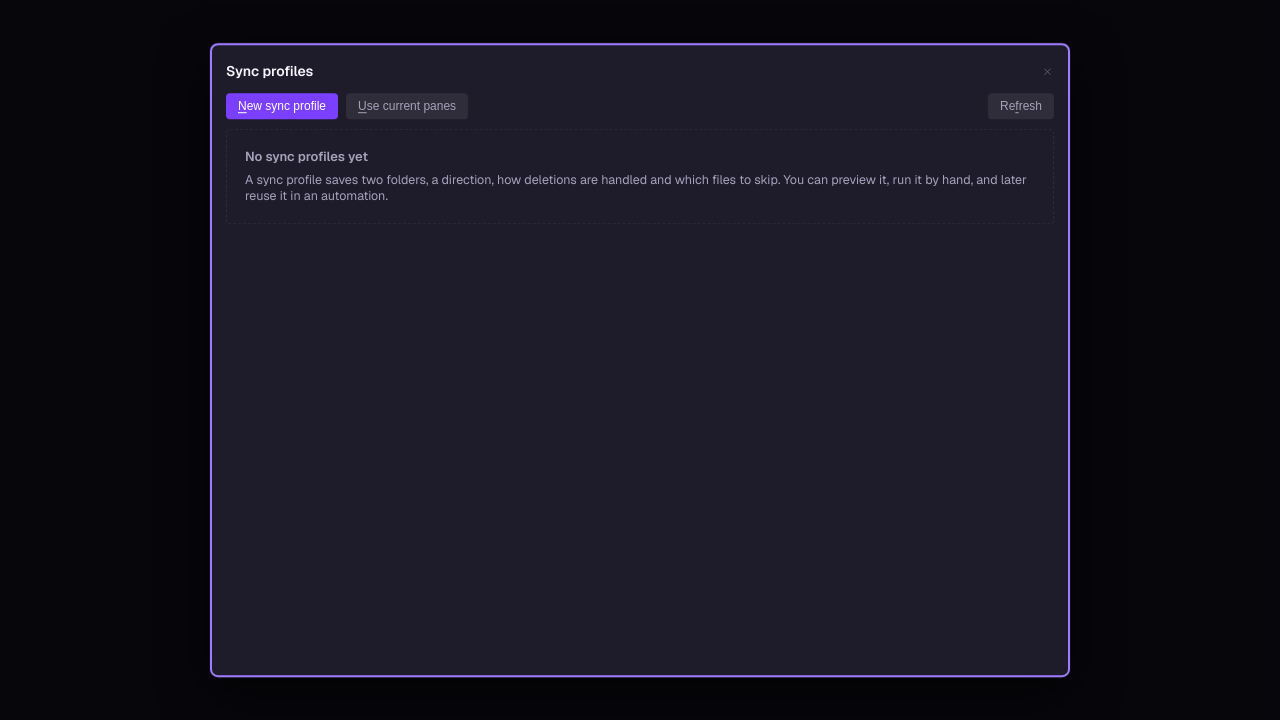
Test: SyncProfilesPage › "Use current panes" opens the editor with the active pane left and the other right (SP-1.2)
Expected: the element with test id "sync-empty" is shown, [226,129,1054,224]
Click the button "Use current panes" at (407, 106), box [346,93,468,119]
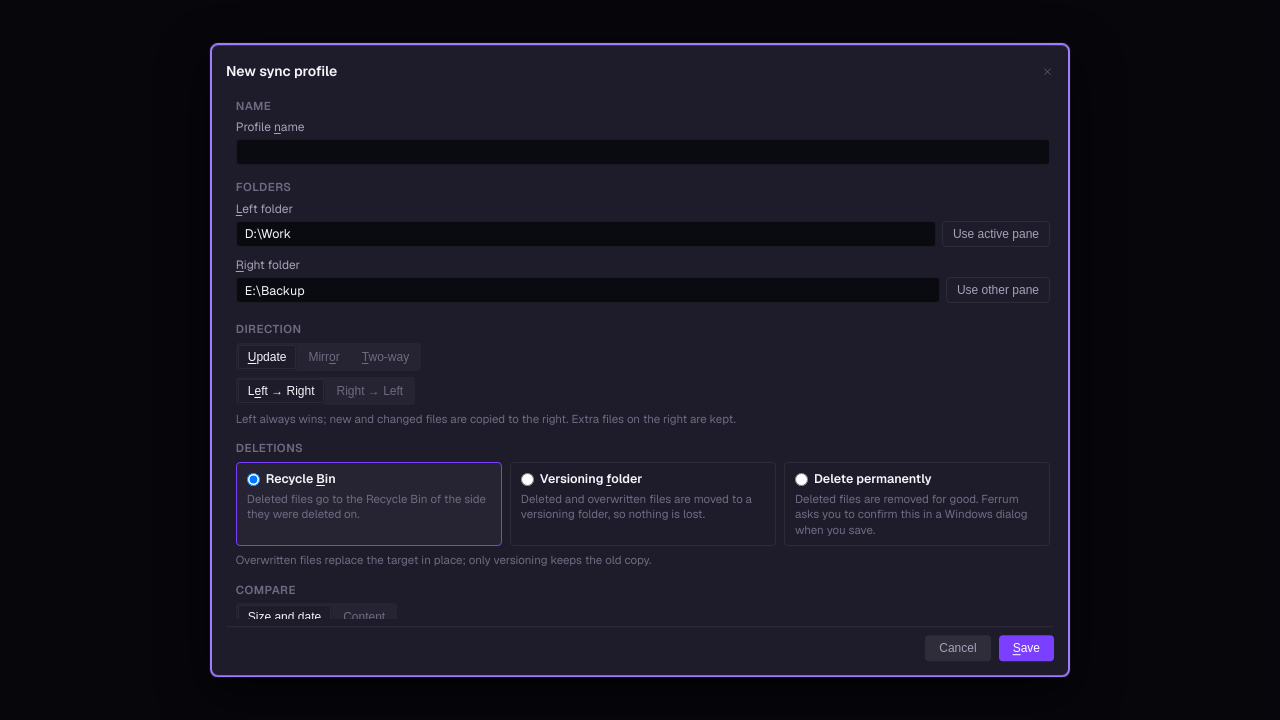
Now the field labelled "Left folder" holds "D:\\Work", box [236,221,936,247]
Now the field labelled "Right folder" holds "E:\\Backup", box [236,277,940,303]
